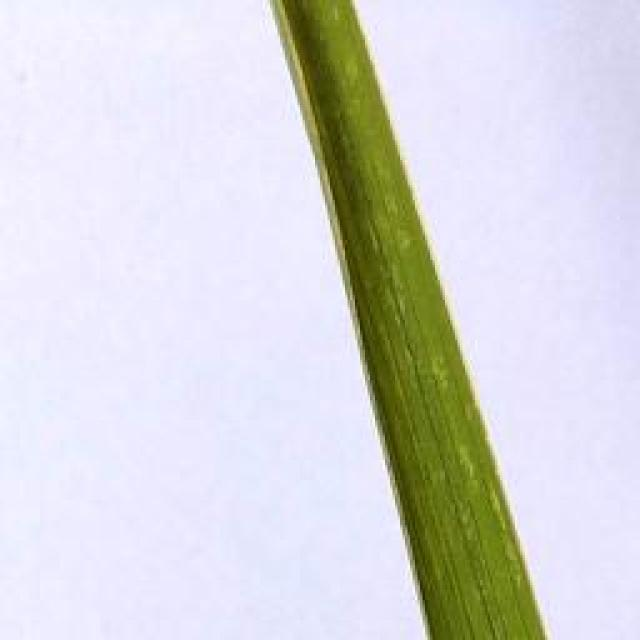Healthy-Plant: (274, 0, 560, 640)
